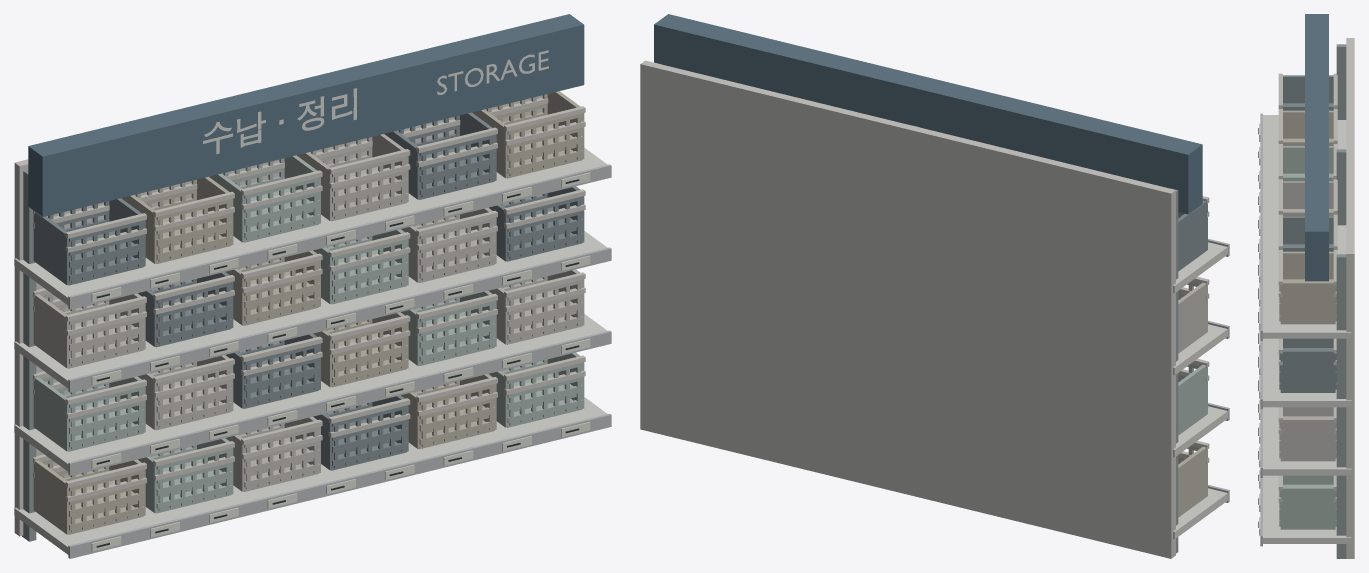
The model's file is Organizers.glb.
The picture shows the model from 3 angles, left to right: view 1: azimuth 30°, elevation 25°; view 2: azimuth 150°, elevation 25°; view 3: azimuth 270°, elevation 25°; orthographic projection. The views are drawn at different scales.
Parts seen in each view (by area): view 1: Organizers; view 2: Organizers; view 3: Organizers.
Boxes of the visible parts, x1,y1,x2,y2 form: Organizers: (14,14,611,558); Organizers: (640,14,1229,558); Organizers: (1258,14,1354,558).
Size of the model in its own units: 3 by 2.12 by 0.562.
